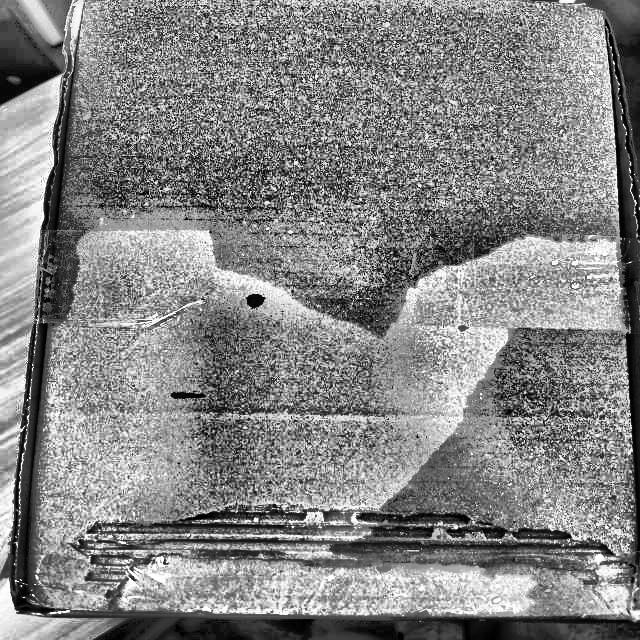box: (2, 0, 639, 626)
wet: (59, 0, 639, 615)
